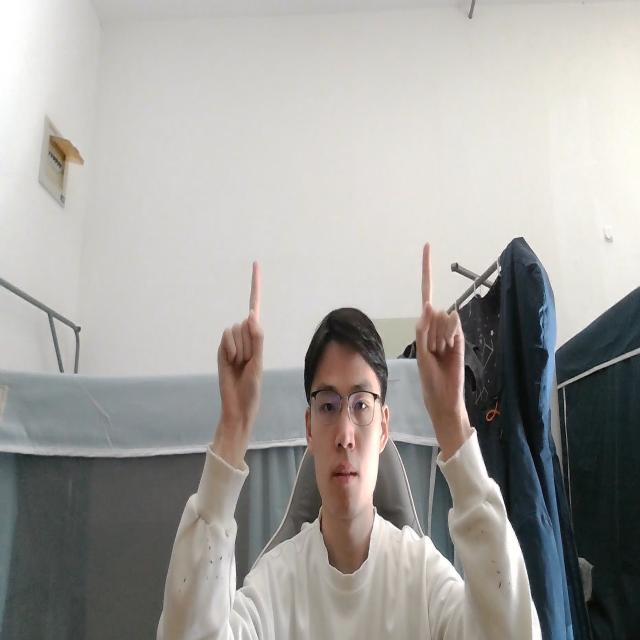one: (411, 233, 469, 440), (212, 249, 267, 442)
